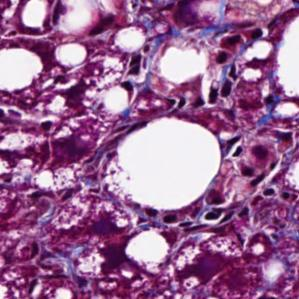inflammation: (203, 65, 244, 104), (195, 203, 251, 231), (115, 55, 151, 88)
